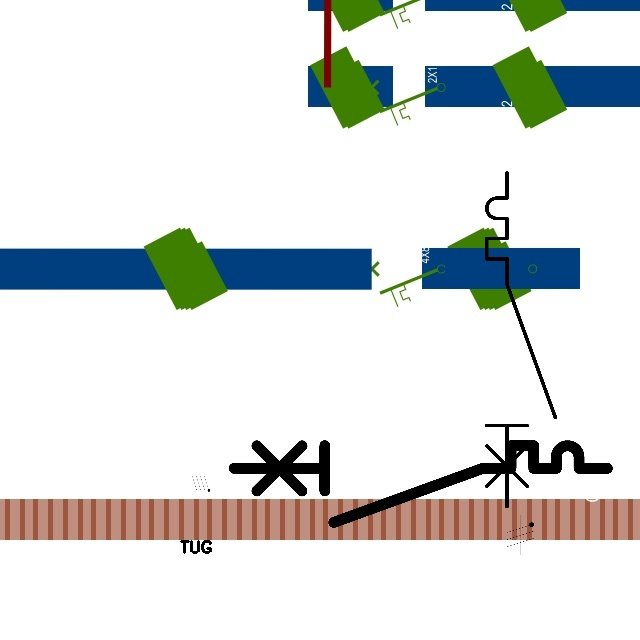interruptor_termomagnetico: (224, 436, 617, 532), (478, 164, 564, 515)
